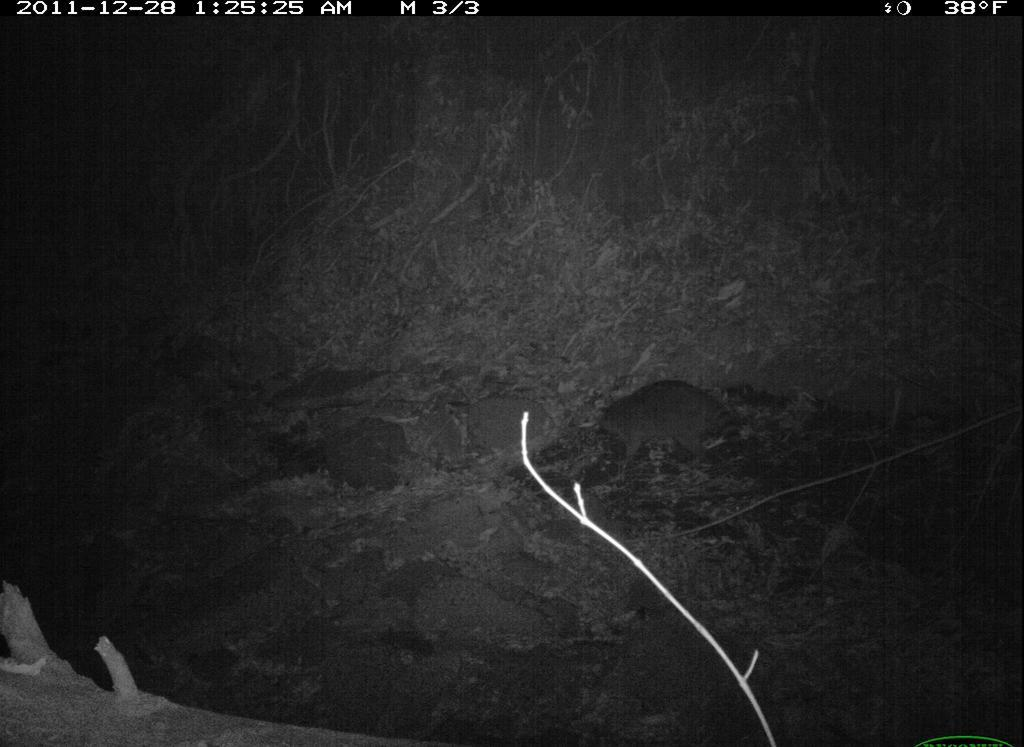raccoon: (594, 367, 742, 492)
